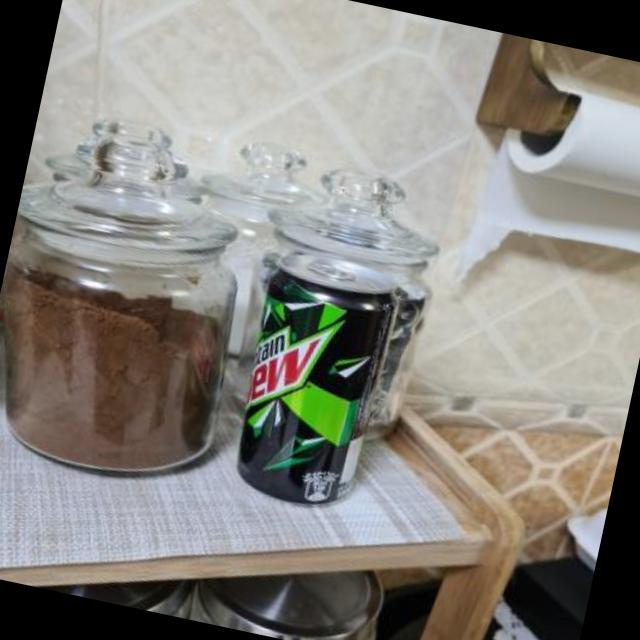metal: (233, 251, 397, 501)
